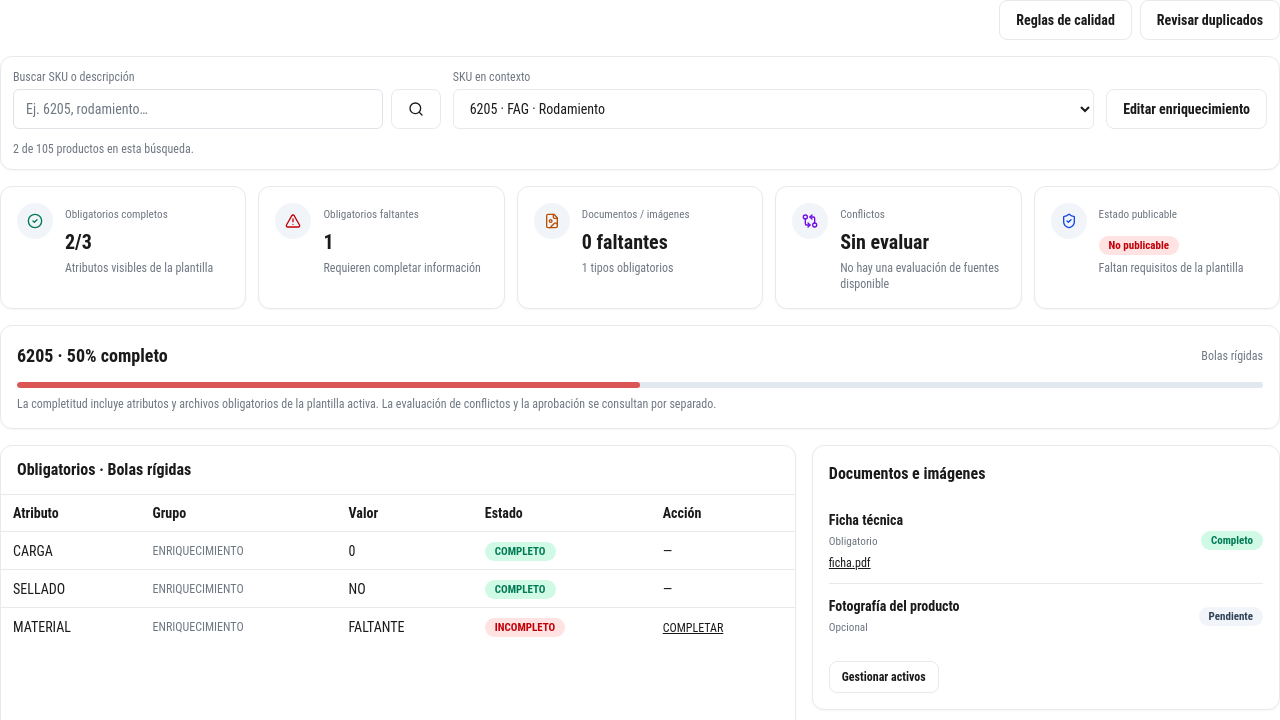
Scenario: CatalogQualityWorkspace › checks a required document against actual assets and links to its download
Expected: the text "0 faltantes" is shown, [582,230,668,254]
Expected: the text "Opcional" is shown, [829,621,868,634]
Click the button "Reglas de calidad": (1066, 20) [999,0,1132,40]
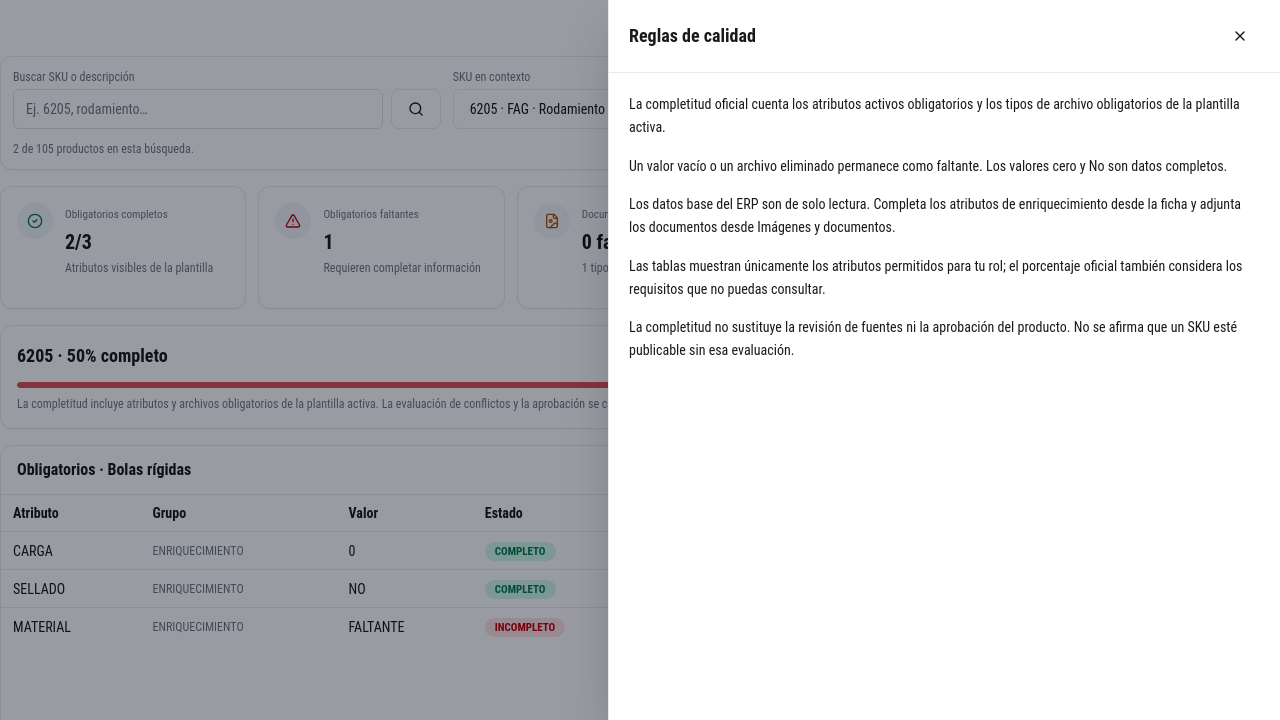
Expected: the dialog "Reglas de calidad" shows "Los valores cero y No son datos completos.", [629,158,1227,174]
